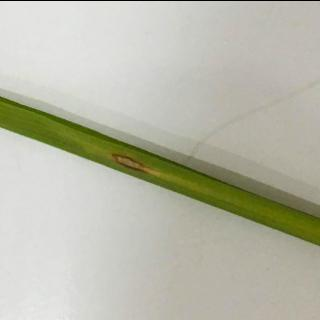Blast: (85, 142, 181, 189)
